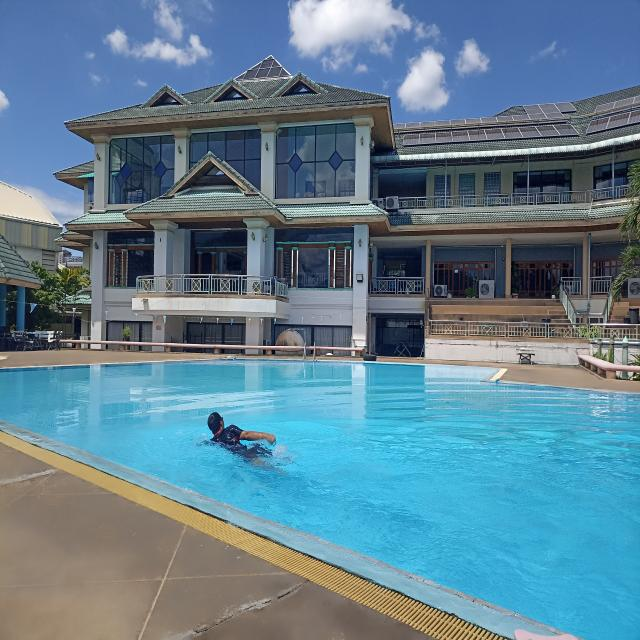Swimming: (200, 409, 298, 477)
